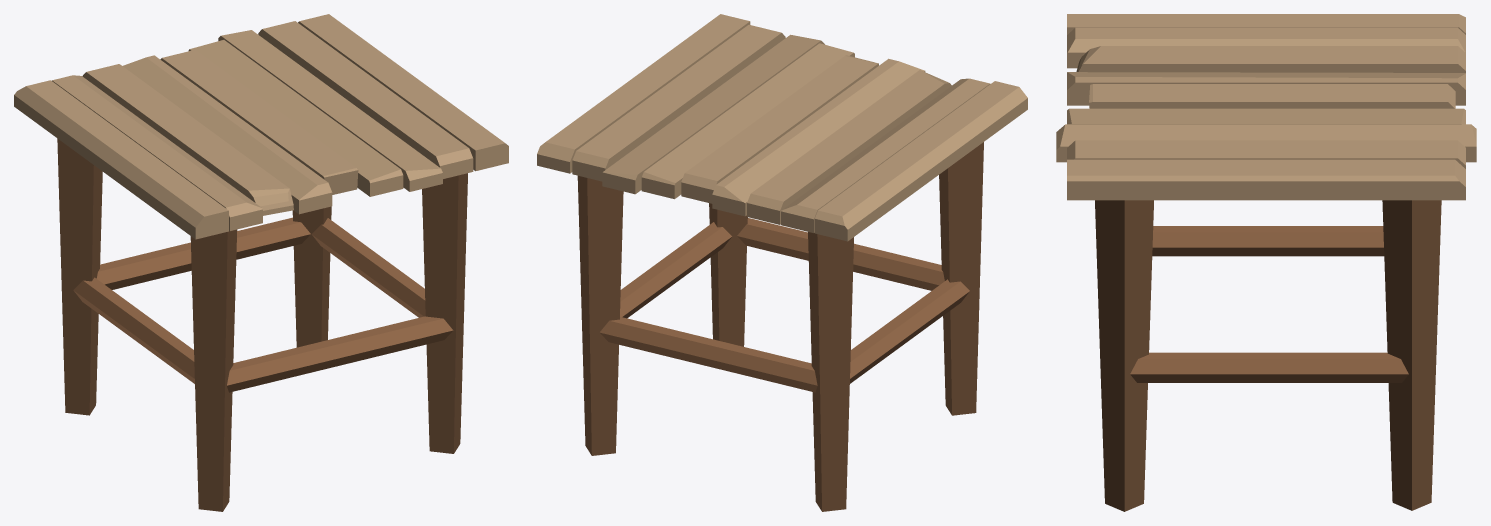
Rendered from Table_1.fbx.
The picture shows the model from 3 angles, left to right: view 1: azimuth 30°, elevation 25°; view 2: azimuth 150°, elevation 25°; view 3: azimuth 270°, elevation 25°; orthographic projection. The views are drawn at different scales.
Visible parts, largest first — view 1: Cube.192, Cube.195, Cube.194, Cube.191, Cube.203, Cube.198, Cube.199, Cube.197, Cube.202, Cube.204, Cube.196, Cylinder.066 (+5 smaller); view 2: Cube.191, Cube.195, Cube.193, Cube.192, Cube.203, Cube.198, Cube.199, Cube.196, Cube.204, Cube.197, Cube.202, Cylinder.067 (+5 smaller); view 3: Cube.204, Cube.194, Cube.193, Cube.198, Cube.196, Cylinder.069, Cube.203, Cube.201, Cube.202, Cylinder.068, Cube.197, Cube.195 (+1 smaller).
Part boxes in pixels (bbox=[...]): Cube.192: bbox=[190, 229, 237, 511]; Cube.195: bbox=[14, 80, 228, 239]; Cube.194: bbox=[422, 173, 467, 453]; Cube.191: bbox=[57, 138, 102, 415]; Cube.203: bbox=[258, 21, 473, 178]; Cube.198: bbox=[82, 64, 293, 215]; Cube.199: bbox=[123, 55, 332, 214]; Cube.197: bbox=[188, 40, 403, 196]; Cube.202: bbox=[218, 30, 442, 191]; Cube.204: bbox=[298, 14, 508, 171]; Cube.196: bbox=[160, 50, 358, 194]; Cylinder.066: bbox=[227, 316, 453, 392]; Cube.191: bbox=[808, 232, 853, 511]; Cube.195: bbox=[814, 81, 1027, 241]; Cube.193: bbox=[577, 175, 623, 455]; Cube.192: bbox=[939, 142, 983, 415]; Cube.203: bbox=[572, 24, 785, 181]; Cube.198: bbox=[747, 70, 951, 224]; Cube.199: bbox=[712, 58, 925, 216]; Cube.196: bbox=[681, 55, 878, 203]; Cube.204: bbox=[537, 14, 750, 173]; Cube.197: bbox=[641, 43, 854, 199]; Cube.202: bbox=[602, 34, 824, 194]; Cylinder.067: bbox=[599, 316, 817, 392]; Cube.204: bbox=[1067, 159, 1465, 200]; Cube.194: bbox=[1095, 200, 1153, 511]; Cube.193: bbox=[1382, 200, 1441, 510]; Cube.198: bbox=[1076, 46, 1465, 72]; Cube.196: bbox=[1089, 84, 1455, 108]; Cylinder.069: bbox=[1130, 352, 1408, 382]; Cube.203: bbox=[1067, 140, 1465, 168]; Cube.201: bbox=[1067, 27, 1465, 68]; Cube.202: bbox=[1056, 124, 1476, 162]; Cylinder.068: bbox=[1152, 226, 1384, 256]; Cube.197: bbox=[1067, 108, 1465, 124]; Cube.195: bbox=[1067, 14, 1465, 34].
Size of the model in its own units: 372 by 358 by 393.
